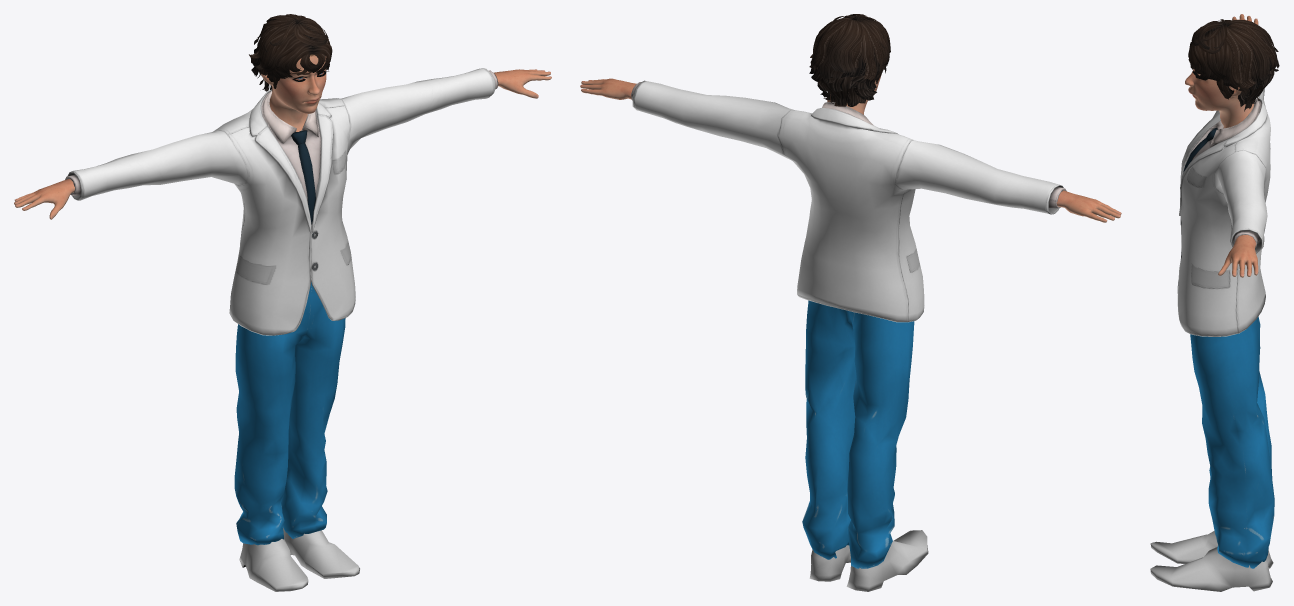
Rendered from Doctor con traje blanco modo.obj.
3 renders of one model, left to right at view 1: azimuth 30°, elevation 25°; view 2: azimuth 150°, elevation 25°; view 3: azimuth 270°, elevation 25°, orthographic.
Visible parts, largest first — view 1: Tops, Bottoms, Shoes, Body, Hair; view 2: Tops, Bottoms, Hair, Shoes, Body; view 3: Tops, Bottoms, Hair, Shoes, Body.
Boxes of the visible parts, <box> form: Tops: <box>65,68,498,335</box>; Bottoms: <box>234,278,345,545</box>; Shoes: <box>239,528,359,591</box>; Body: <box>14,54,551,219</box>; Hair: <box>249,14,332,91</box>; Tops: <box>631,80,1066,322</box>; Bottoms: <box>802,300,914,568</box>; Hair: <box>809,14,890,106</box>; Shoes: <box>809,530,928,591</box>; Body: <box>580,74,1121,222</box>; Tops: <box>1177,89,1270,336</box>; Bottoms: <box>1190,316,1274,568</box>; Hair: <box>1188,19,1279,111</box>; Shoes: <box>1150,531,1273,591</box>; Body: <box>1185,14,1258,277</box>.
Size of the model in its own units: 177 by 173 by 36.56.
Materials: 5 (5 with a texture image).
